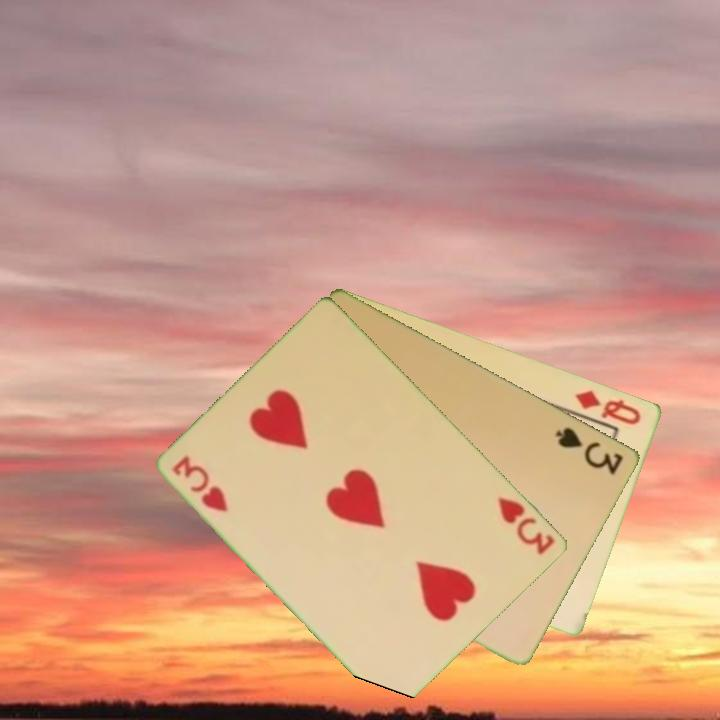3h: (494, 493, 558, 558), (169, 451, 232, 515)
3s: (552, 423, 627, 478)
Qd: (572, 386, 645, 428)
